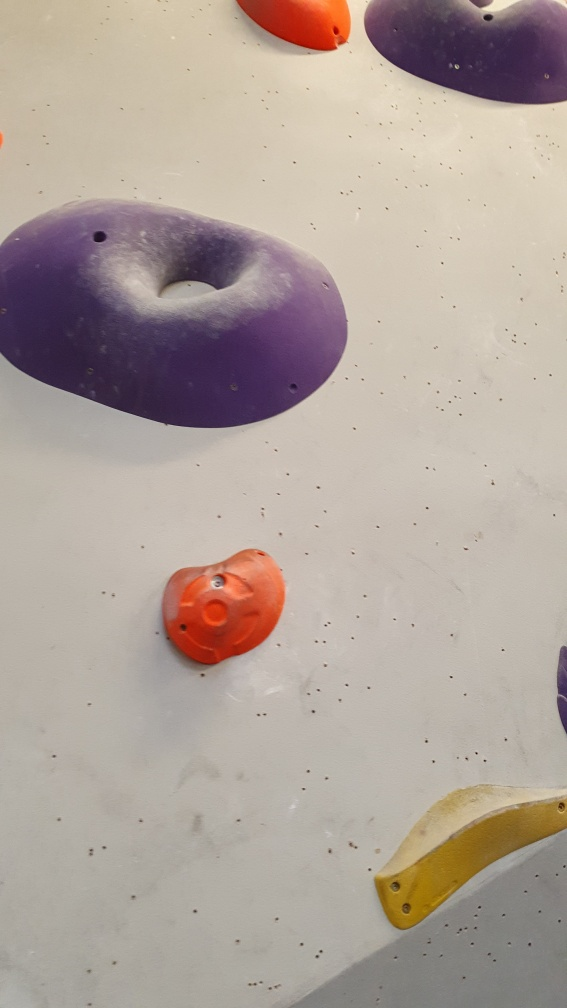Pocket: (1, 190, 356, 434)
